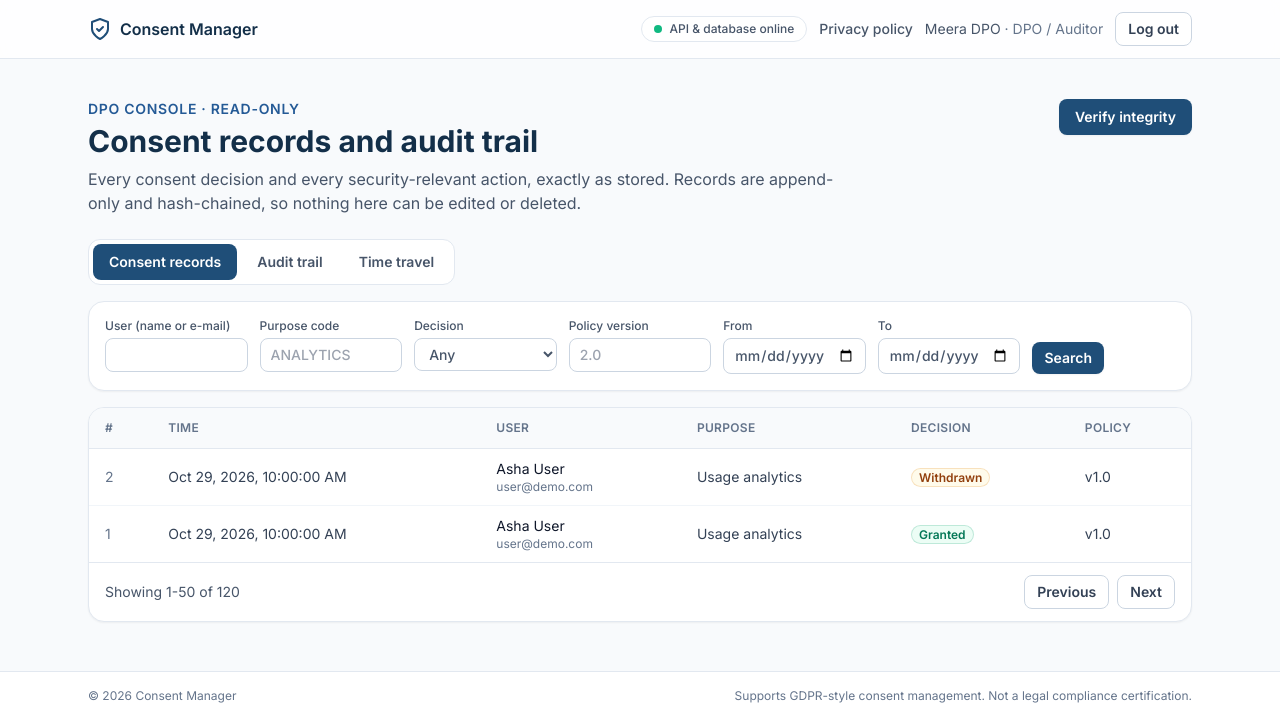
Test: DPO console (#22) › pages forward
This screenshot has width=1280, height=720.
Expected: the button "Previous" is disabled, top-left (1024, 575), bottom-right (1109, 609)
Click the button "Next".
click(1146, 592)  # box top-left (1117, 575), bottom-right (1175, 609)
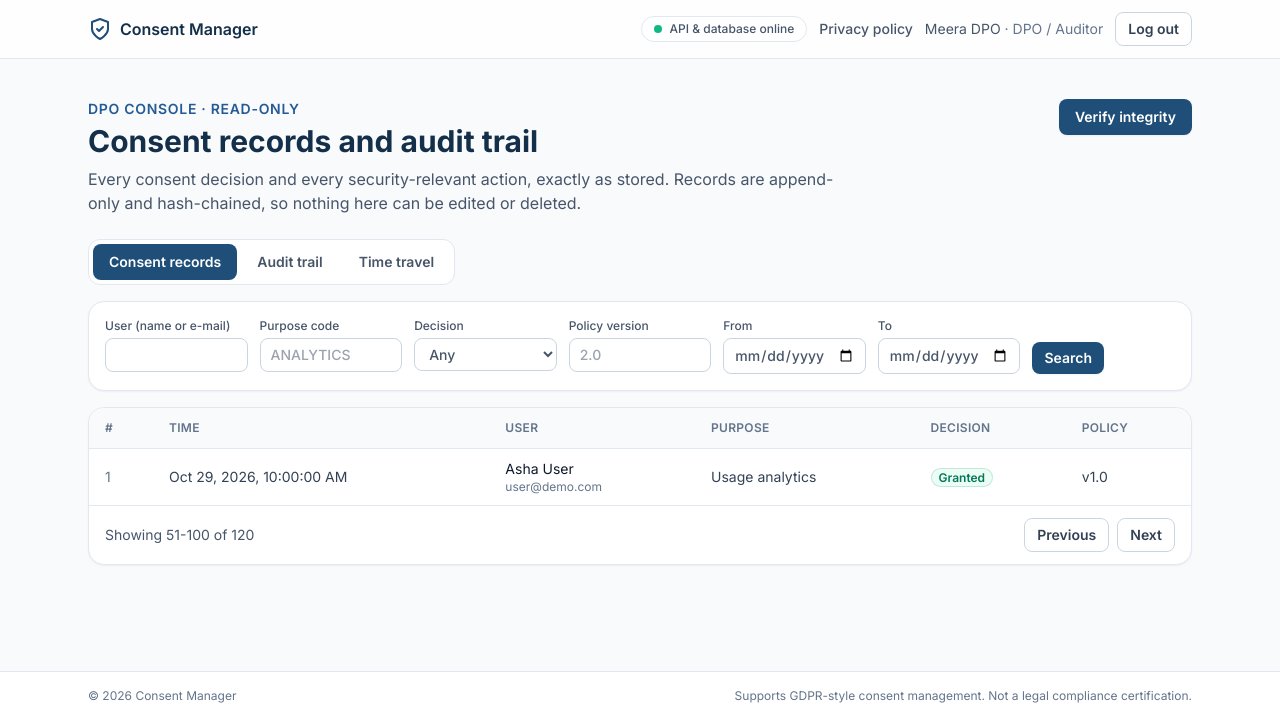
Result: the text "Showing 51-100 of 120" is shown at top-left (105, 525), bottom-right (254, 545)
Result: the button "Previous" is enabled at top-left (1024, 518), bottom-right (1109, 552)
